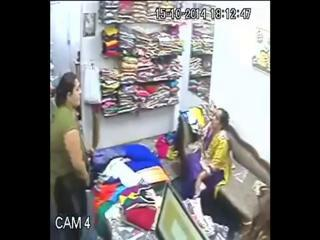Normal: (50, 71, 94, 240)
